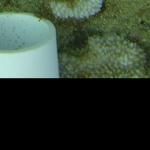dead: (1, 2, 148, 77)
